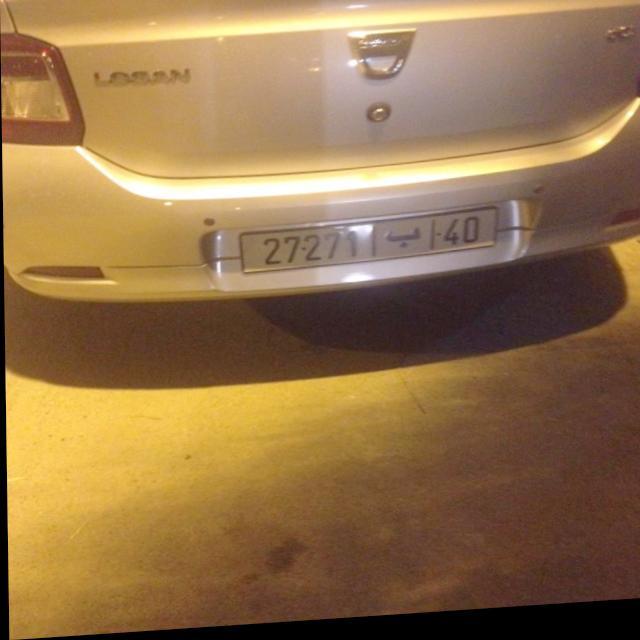License-Plate: (241, 216, 492, 276)
